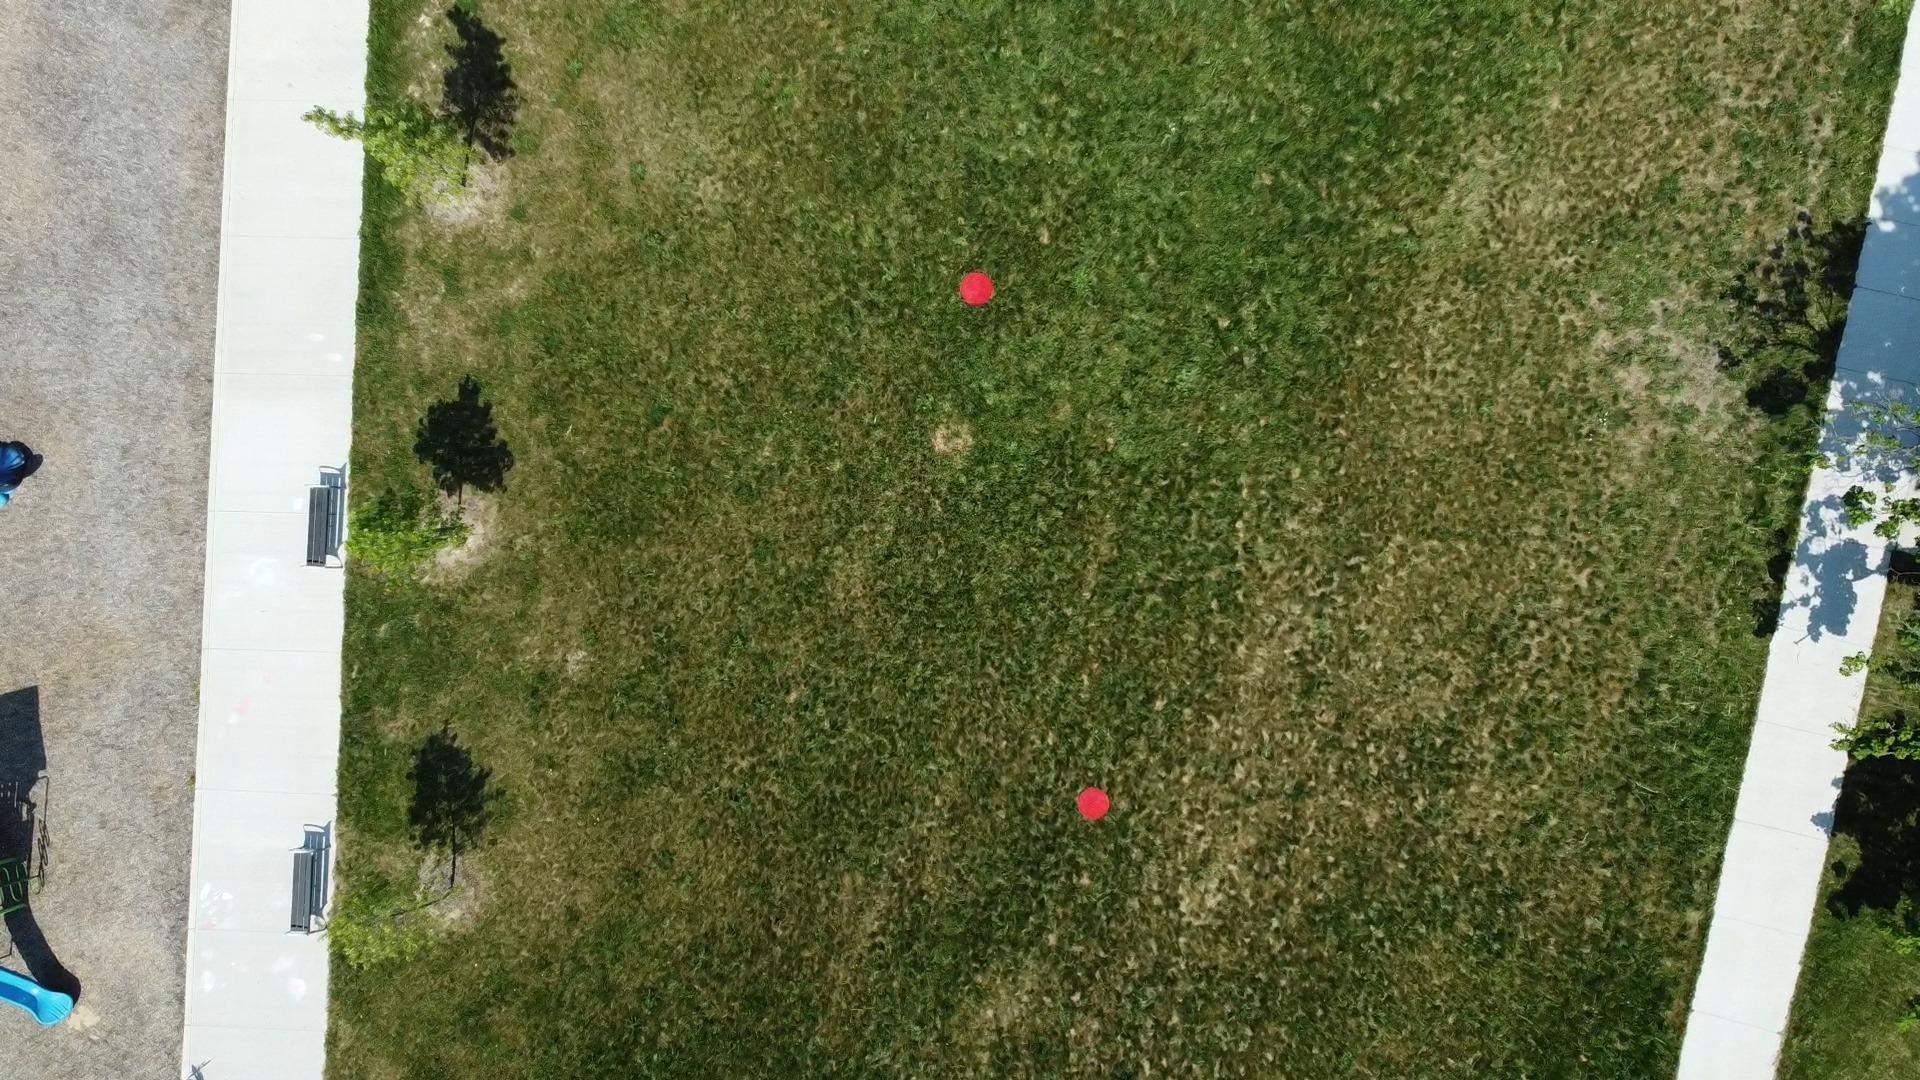Red: (959, 269, 997, 309), (1073, 785, 1112, 823)
